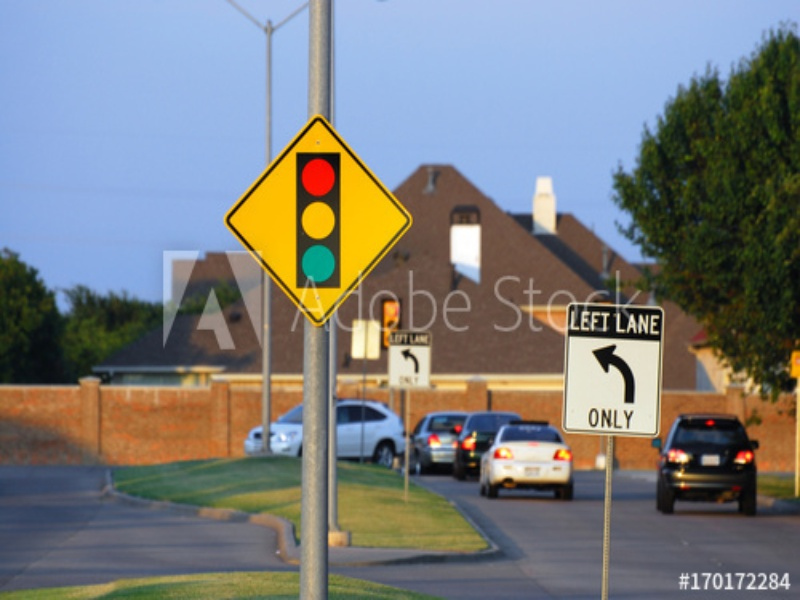traffic signal sign: (222, 114, 414, 329)
